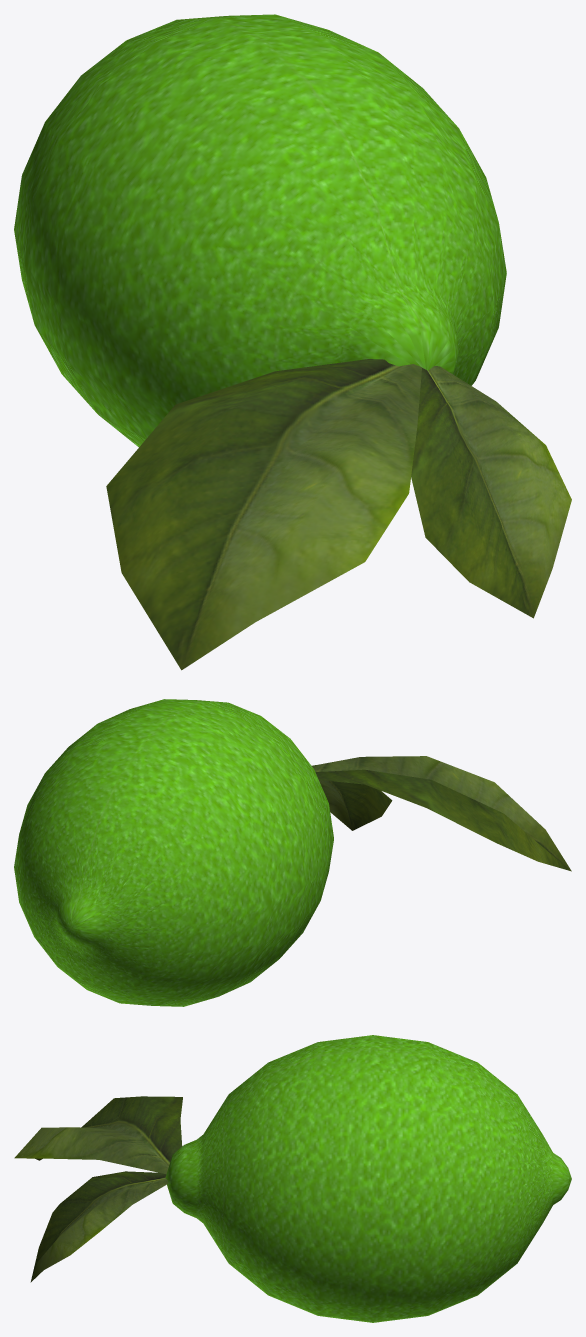
File: lime.FBX
The picture shows the model from 3 angles, top to bottom: view 1: azimuth 30°, elevation 25°; view 2: azimuth 150°, elevation 25°; view 3: azimuth 270°, elevation 25°; orthographic projection. The views are drawn at different scales.
Parts seen in each view (by area): view 1: lemon_green; view 2: lemon_green; view 3: lemon_green.
Boxes of the visible parts, x1=… form: lemon_green: x1=14, y1=14, x2=571, y2=670; lemon_green: x1=14, y1=699, x2=571, y2=1006; lemon_green: x1=14, y1=1035, x2=571, y2=1322.
Bounding box in the file's own units: 8.53 × 6.23 × 11.98.
Materials: 1 (1 with a texture image).
